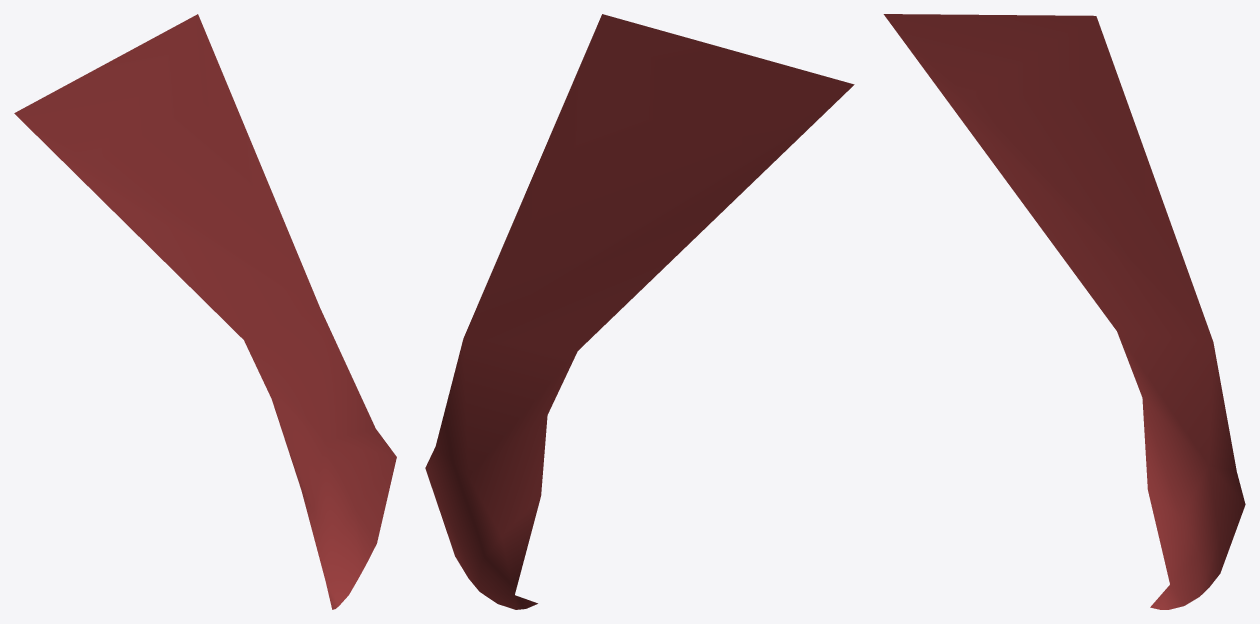
Rendered from lateral-pterygoid-muscle-o1l.glb.
3 views of the same model, side by side, from view 1: azimuth 30°, elevation 25°; view 2: azimuth 150°, elevation 25°; view 3: azimuth 330°, elevation 25° (orthographic). The views are drawn at different scales.
Visible parts, largest first — view 1: Lateral pterygoid muscle.o1l; view 2: Lateral pterygoid muscle.o1l; view 3: Lateral pterygoid muscle.o1l.
Part boxes in pixels (x1,y1,x2,y2): Lateral pterygoid muscle.o1l: (14,14,396,609); Lateral pterygoid muscle.o1l: (425,14,854,609); Lateral pterygoid muscle.o1l: (883,14,1245,609).
Size of the model in its own units: 0.00603 by 0.00884 by 0.00109.
